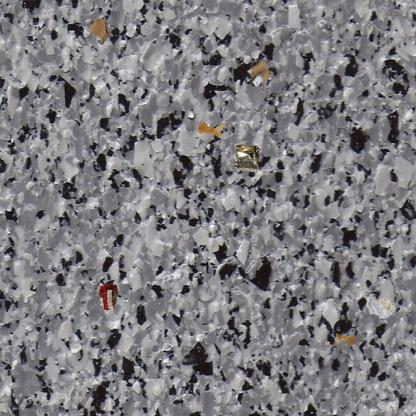dirty: (245, 58, 275, 90), (364, 294, 398, 321), (233, 143, 259, 172), (88, 15, 114, 44), (98, 281, 121, 312)
liquid: (196, 120, 228, 139), (331, 332, 356, 348)
